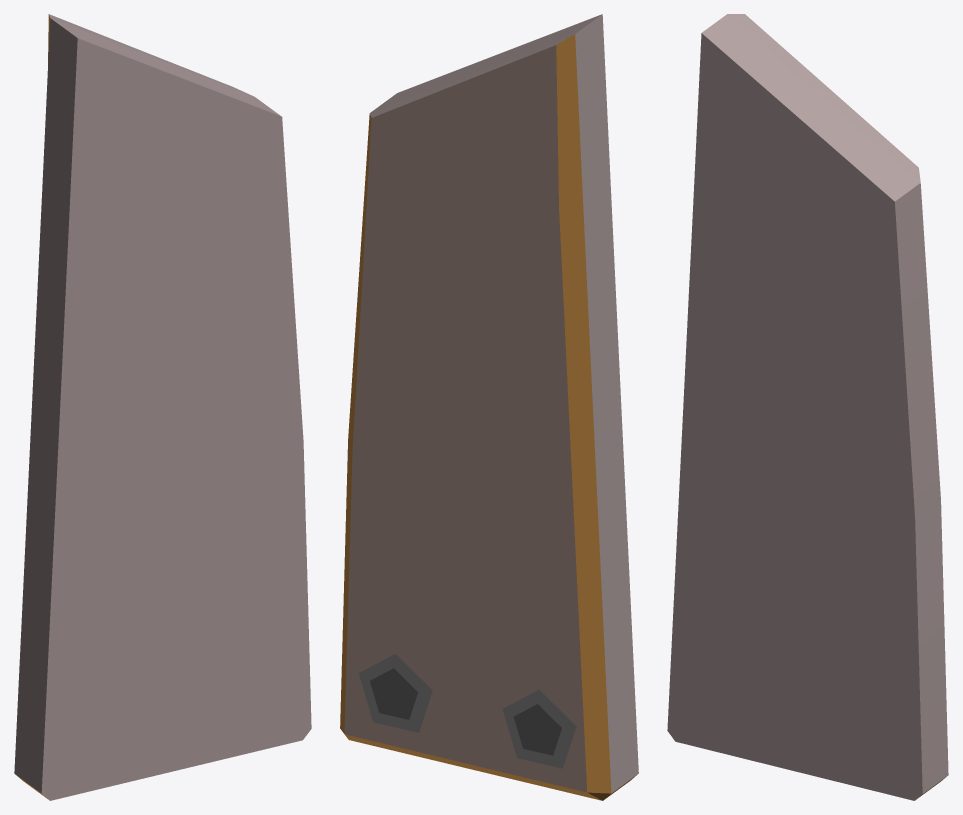
The model's file is WoodBoardG.fbx.
3 views of the same model, side by side, from view 1: azimuth 30°, elevation 25°; view 2: azimuth 150°, elevation 25°; view 3: azimuth 330°, elevation 25° (orthographic). The views are drawn at different scales.
Parts seen in each view (by area): view 1: WoodBoardG; view 2: WoodBoardG; view 3: WoodBoardG.
Part boxes in pixels (x1,y1,x2,y2): WoodBoardG: (14, 14, 311, 800); WoodBoardG: (340, 14, 638, 800); WoodBoardG: (667, 14, 948, 800).
Bounding box in the file's own units: 61.43 × 165 × 15.75.
